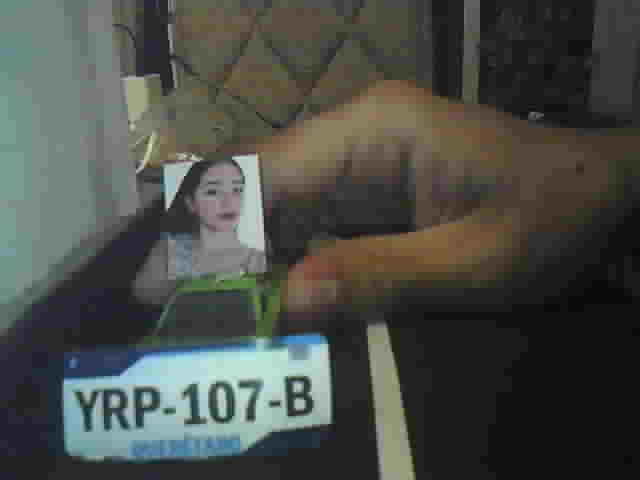PLACA: (60, 332, 334, 465)
ROSTRO: (166, 161, 266, 275)
